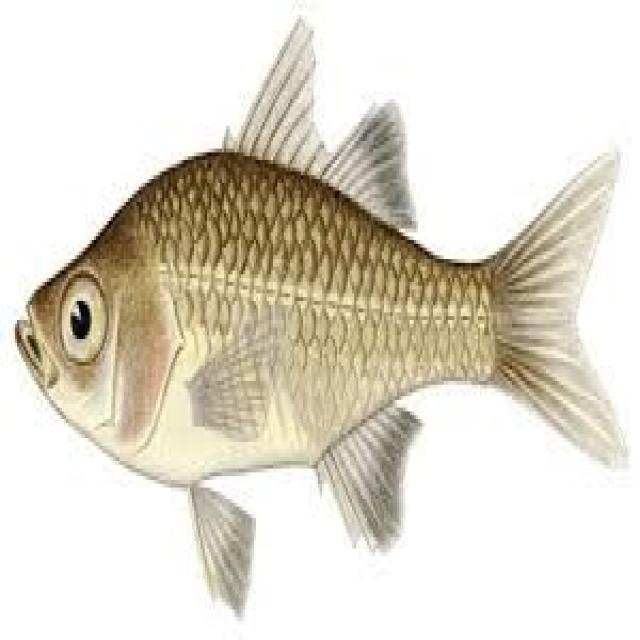Glass-Perchlet: (16, 21, 628, 606)
